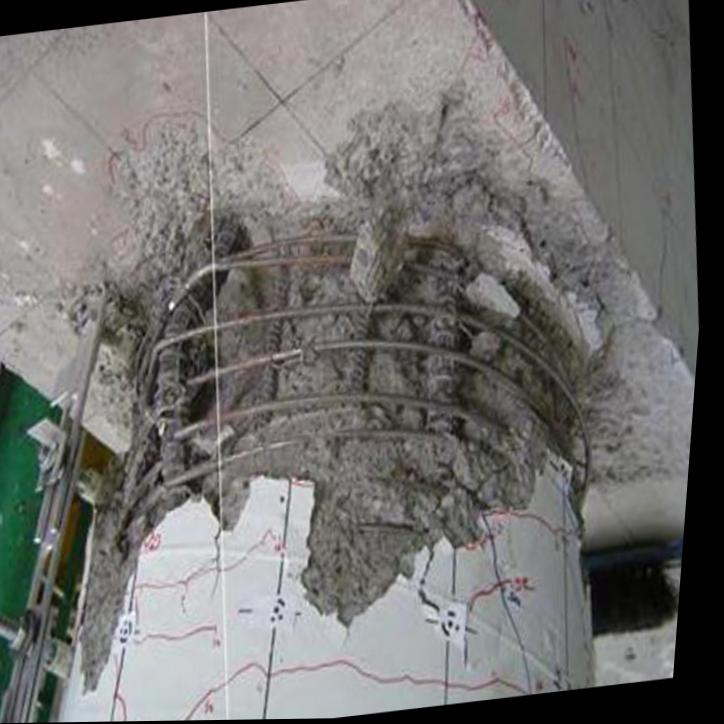crack: (147, 532, 276, 614), (491, 517, 545, 696), (193, 664, 277, 721), (281, 660, 451, 688), (495, 513, 571, 552), (479, 579, 537, 612), (146, 625, 229, 646), (428, 549, 450, 618), (461, 679, 544, 697), (127, 695, 139, 722)
damage: (89, 97, 597, 690)
